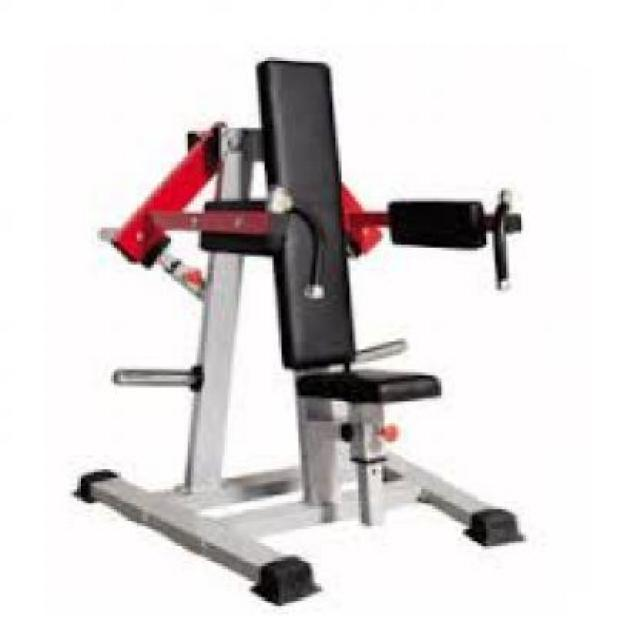lateral raises machine: (74, 59, 526, 602)
